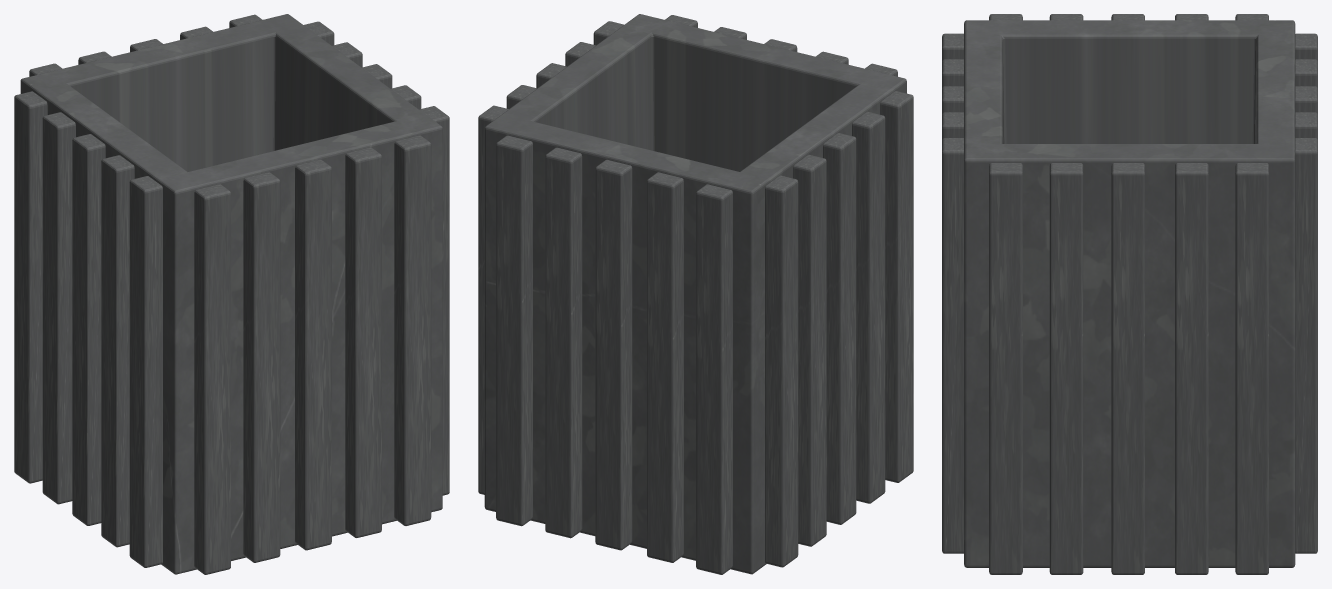
Rendered from bin.fbx.
3 views of the same model, side by side, from view 1: azimuth 30°, elevation 25°; view 2: azimuth 150°, elevation 25°; view 3: azimuth 270°, elevation 25° (orthographic). The views are drawn at different scales.
Parts seen in each view (by area): view 1: Куб; view 2: Куб; view 3: Куб.
Part boxes in pixels (x1=…): Куб: x1=14, y1=14, x2=449, y2=574; Куб: x1=478, y1=14, x2=913, y2=574; Куб: x1=942, y1=14, x2=1317, y2=574.
Size of the model in its own units: 244 by 292 by 243.
Materials: 1 (1 with a texture image).
